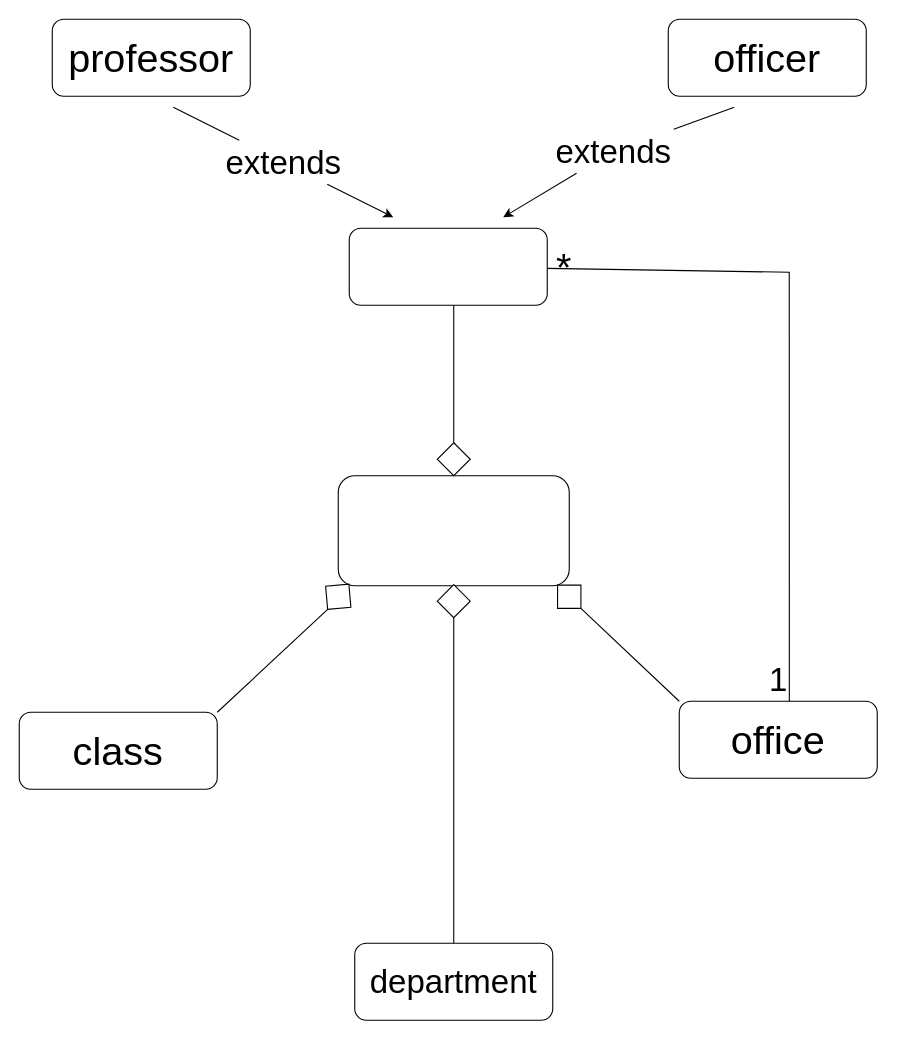
Some shapes in this 897 by 1040 pixel diagram are drawn without their labels. Here are the shapes that lost their labels. From the top down, the box of each, then its label:
(348, 227, 547, 305): employee
(337, 475, 569, 586): university
